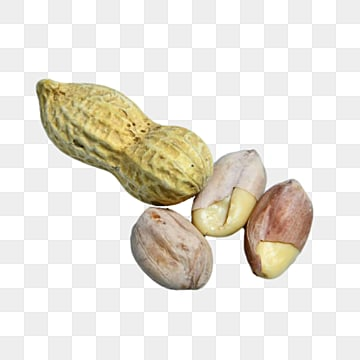kacang2: (35, 61, 215, 209)
